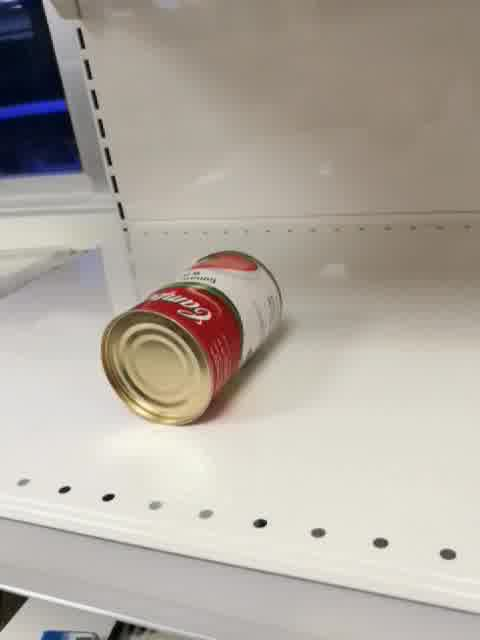tomatosoup: (99, 247, 287, 427)
